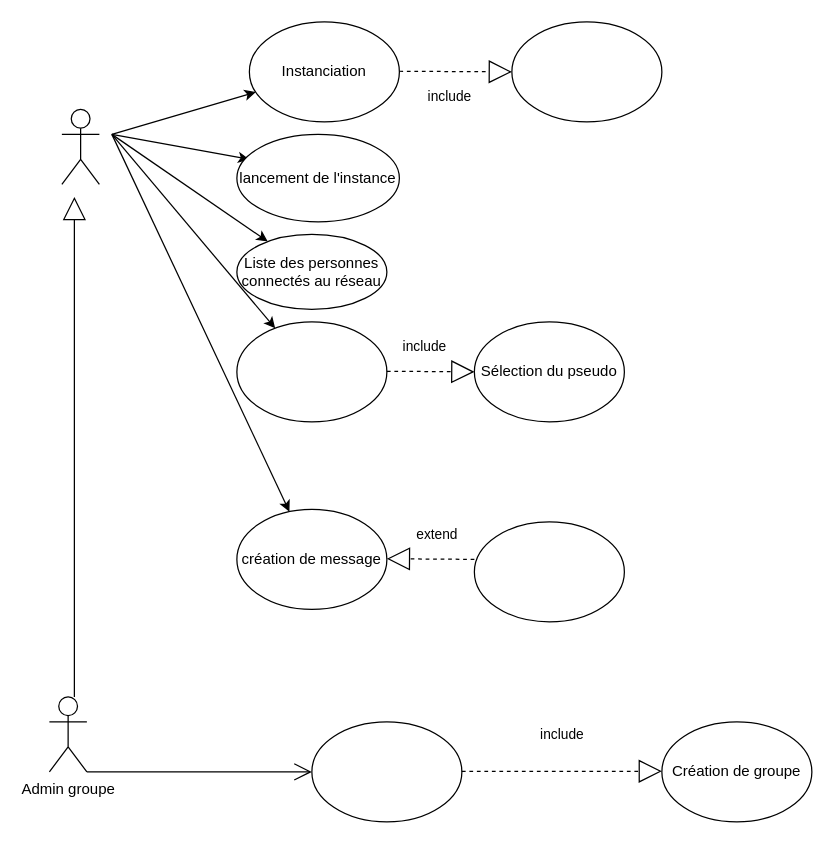
Image size: 834x844. Some labels were removed from this diagram. The centre of each missing label's shape, as x and y in pixels:
"création de discussions d'un à un" goes at point 311,371.
"création discussion de groupe" goes at point 386,771.
"envoi de messages texte" goes at point 548,571.
"personnalisation" goes at point 586,71.
